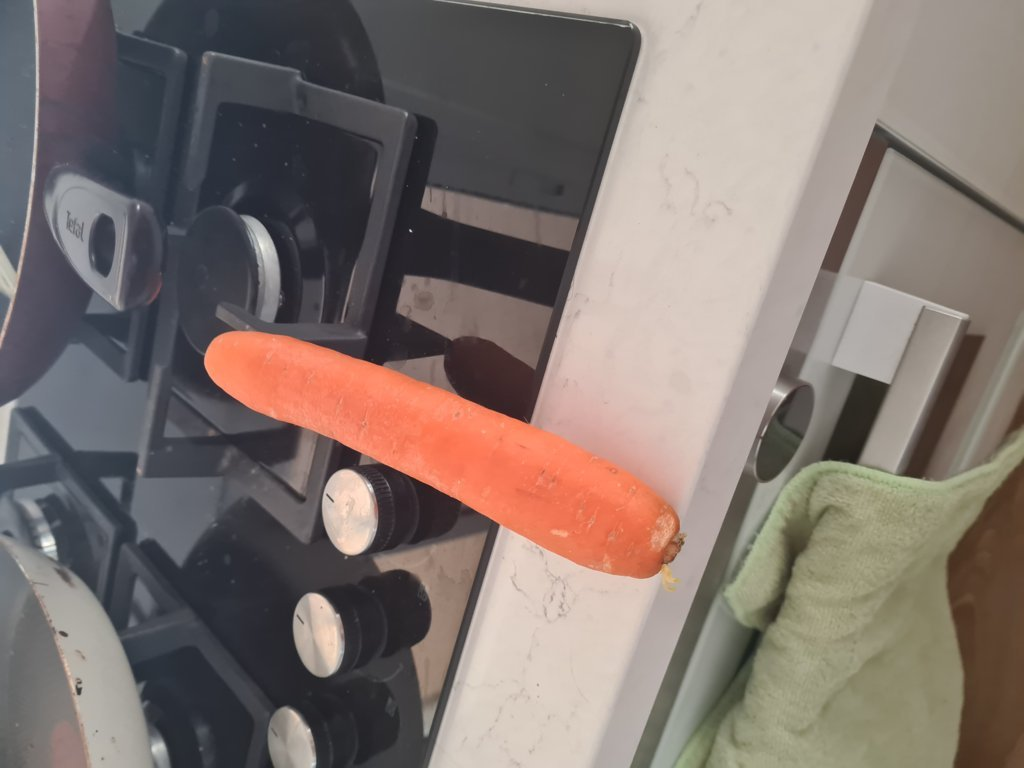carrot: (202, 315, 691, 569)
